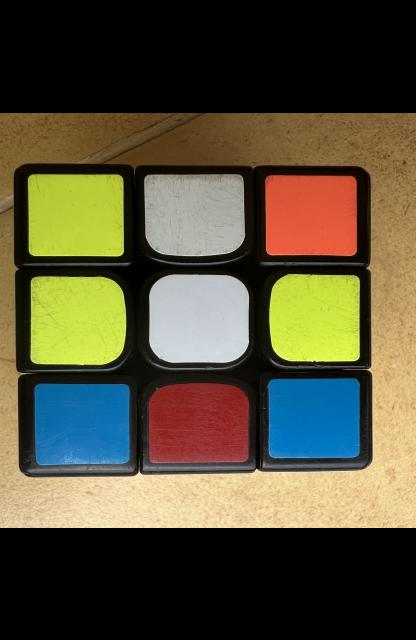Blue: (34, 383, 129, 464), (268, 377, 360, 456)
Orange: (266, 174, 357, 255)
Red: (148, 382, 249, 462)
White: (149, 273, 249, 362), (144, 173, 245, 255)
Yellow: (30, 276, 127, 364), (269, 273, 360, 361), (28, 173, 124, 255)
